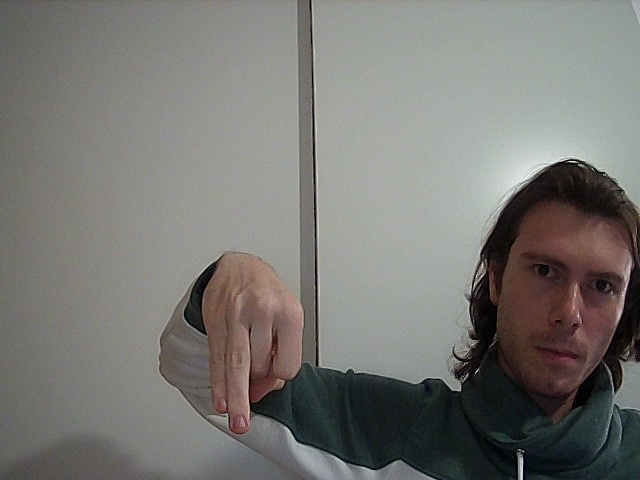n: (190, 242, 310, 444)
